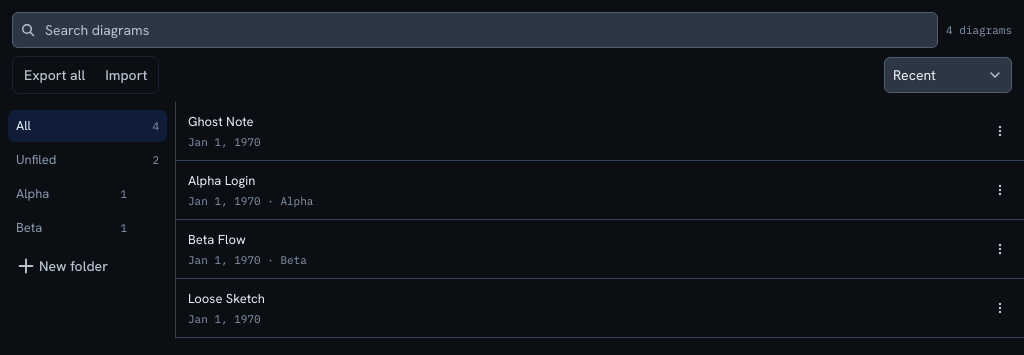
Test: LibraryPanel › filters by a specific folder
Click the button with test id "folder-folder-a": click(72, 194) [16,184,127,204]
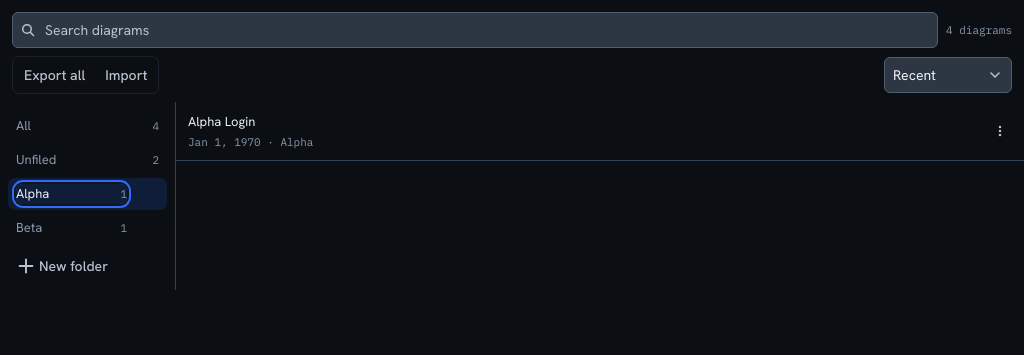
Expected: the button with test id "lib-row-i-alpha" is shown, [176,102,1023,161]
Expected: the button with test id "lib-row-i-beta" is gone
Expected: the button with test id "lib-row-i-unfiled" is gone
